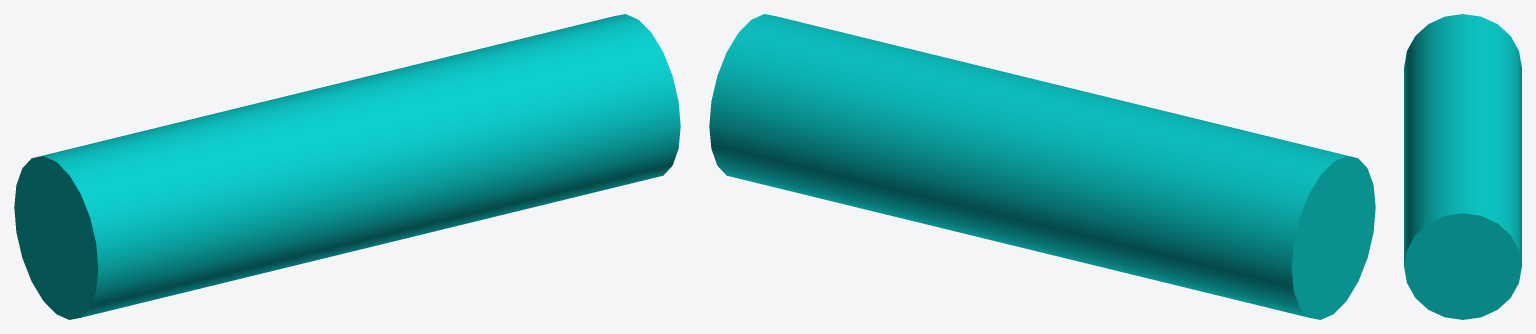
Rendered from pointr.dae.
The picture shows the model from 3 angles, left to right: view 1: azimuth 30°, elevation 25°; view 2: azimuth 150°, elevation 25°; view 3: azimuth 270°, elevation 25°; orthographic projection. The views are drawn at different scales.
Visible parts, largest first — view 1: pointer; view 2: pointer; view 3: pointer.
Boxes of the visible parts, x1,y1,x2,y2 form: pointer: (14,14,680,319); pointer: (709,14,1375,319); pointer: (1404,14,1521,319).
Size of the model in its own units: 0.2 by 0.05 by 0.05.
